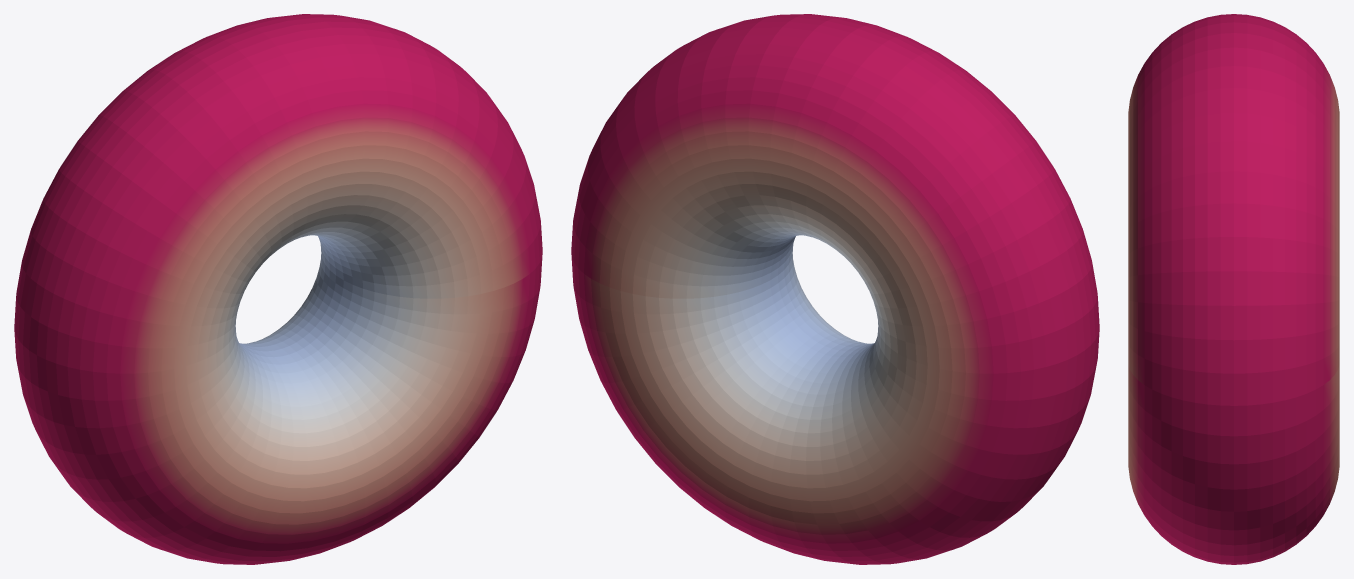
3 renders of one model, left to right at view 1: azimuth 30°, elevation 25°; view 2: azimuth 150°, elevation 25°; view 3: azimuth 270°, elevation 25°, orthographic. The views are drawn at different scales.
Parts seen in each view (by area): view 1: world; view 2: world; view 3: world.
Boxes of the visible parts, x1=… form: world: x1=14, y1=14, x2=542, y2=564; world: x1=571, y1=14, x2=1099, y2=564; world: x1=1128, y1=14, x2=1339, y2=564.
Bounding box in the file's own units: 26 × 25.95 × 9.98.
